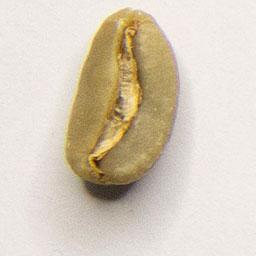longberry: (61, 4, 182, 189)
